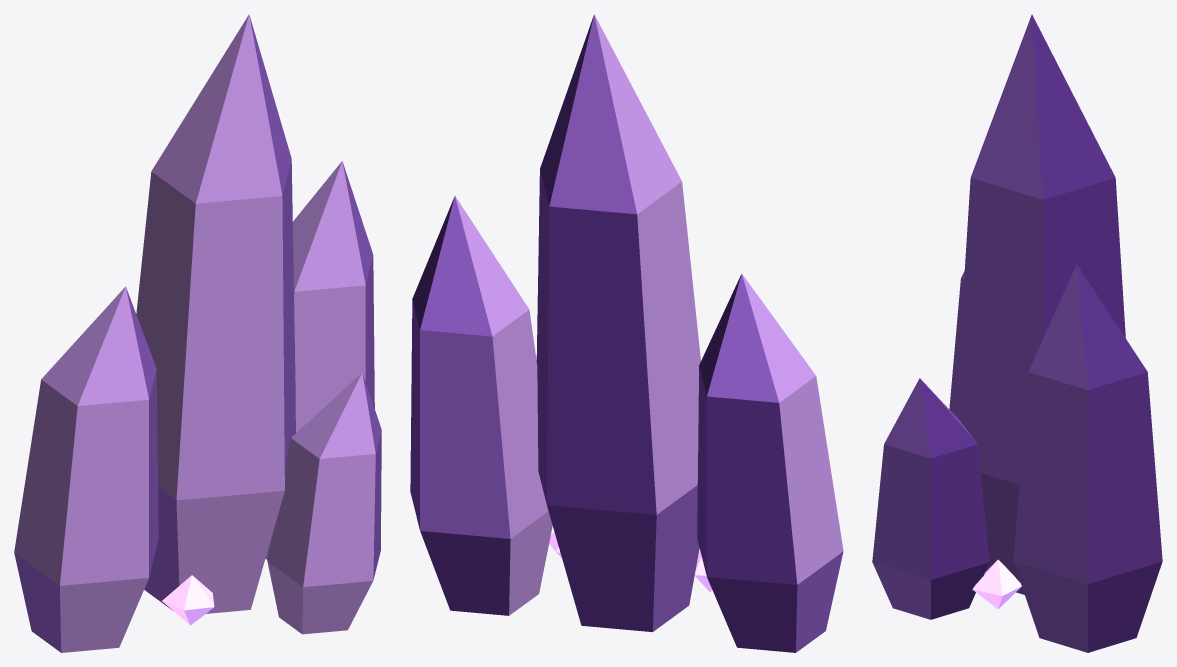
The model's file is CristaisVazio.fbx.
The picture shows the model from 3 angles, left to right: view 1: azimuth 30°, elevation 25°; view 2: azimuth 150°, elevation 25°; view 3: azimuth 270°, elevation 25°; orthographic projection.
Visible parts, largest first — view 1: CristaisVazio_Solido_3, CristaisVazio_Solido_2, CristaisVazio_Folha_4; view 2: CristaisVazio_Solido_1, CristaisVazio_Solido_3, CristaisVazio_Solido_2; view 3: CristaisVazio_Solido_2, CristaisVazio_Solido_1, CristaisVazio_Folha_4.
Part boxes in pixels (x1=…): CristaisVazio_Solido_3: x1=14, y1=14, x2=375, y2=652; CristaisVazio_Solido_2: x1=14, y1=16, x2=381, y2=652; CristaisVazio_Folha_4: x1=162, y1=575, x2=214, y2=625; CristaisVazio_Solido_1: x1=410, y1=16, x2=797, y2=652; CristaisVazio_Solido_3: x1=455, y1=14, x2=843, y2=615; CristaisVazio_Solido_2: x1=420, y1=14, x2=843, y2=652; CristaisVazio_Solido_2: x1=872, y1=14, x2=1087, y2=652; CristaisVazio_Solido_1: x1=920, y1=14, x2=1162, y2=652; CristaisVazio_Folha_4: x1=972, y1=559, x2=1021, y2=609.
Bounding box in the file's own units: 387 × 570 × 259.
